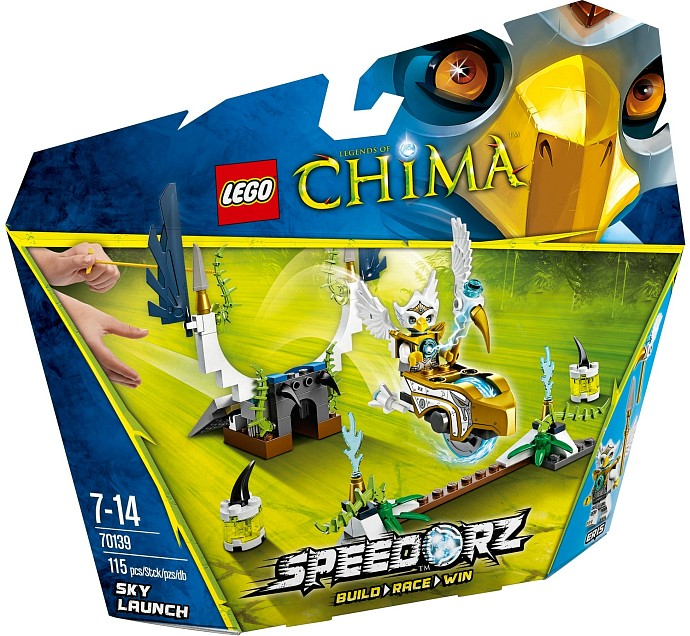LEGO: (205, 149, 286, 234)
